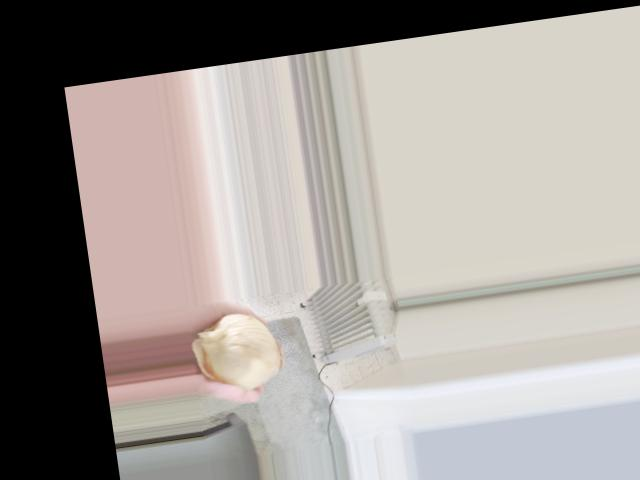onion: (193, 302, 289, 394)
